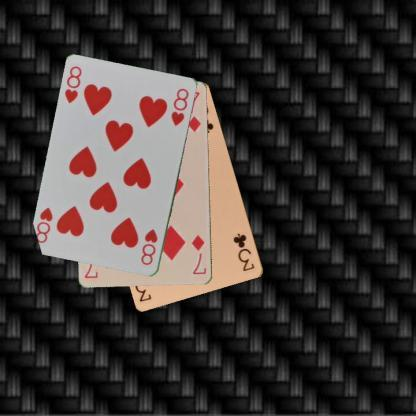3c: (231, 230, 256, 272)
7d: (189, 232, 208, 276)
8h: (62, 64, 83, 106), (139, 226, 159, 266)
